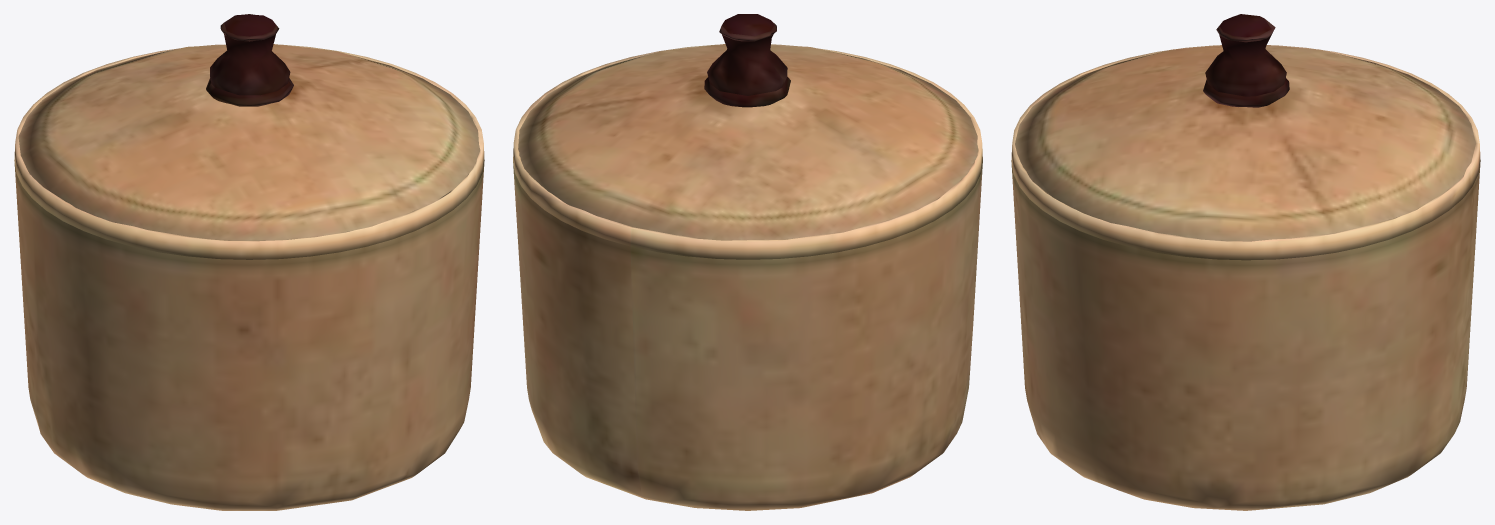
Rendered from brass_pot_01.glb.
The picture shows the model from 3 angles, left to right: view 1: azimuth 30°, elevation 25°; view 2: azimuth 150°, elevation 25°; view 3: azimuth 270°, elevation 25°; orthographic projection.
Parts seen in each view (by area): view 1: brass_pot_01; view 2: brass_pot_01; view 3: brass_pot_01.
Boxes of the visible parts, x1,y1,x2,y2 form: brass_pot_01: (14,14,484,510); brass_pot_01: (513,14,982,510); brass_pot_01: (1011,14,1480,510).
Size of the model in its own units: 0.2993 by 0.2894 by 0.2992.
1 material, 1 textured.
